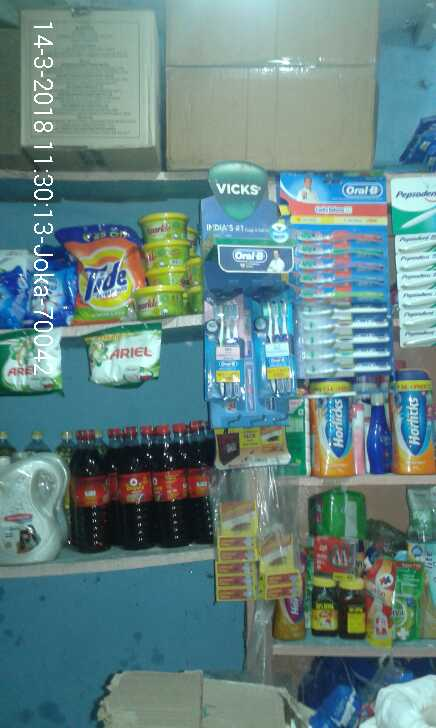home: (68, 231, 140, 320), (90, 324, 163, 382)
pharmacy: (204, 296, 254, 403), (255, 290, 296, 397)
